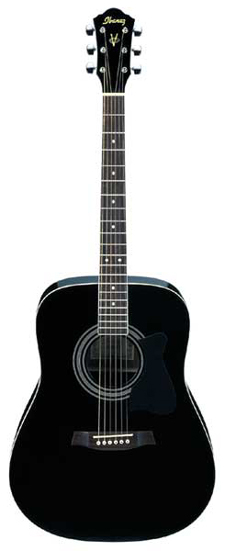guitar: (5, 6, 215, 544)
